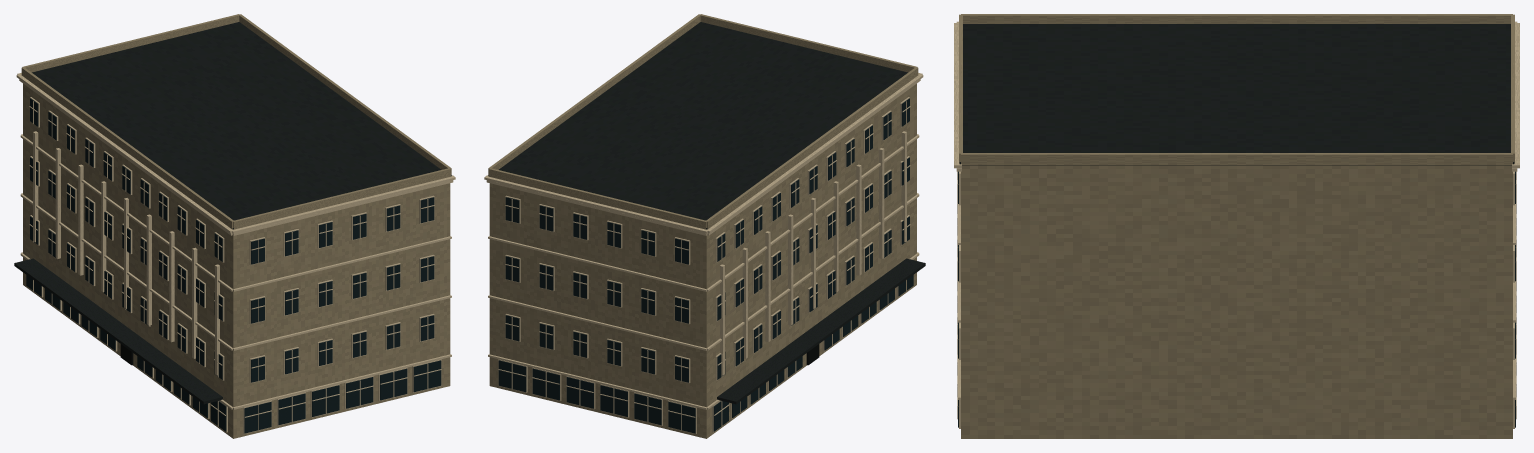
3 views of the same model, side by side, from view 1: azimuth 30°, elevation 25°; view 2: azimuth 150°, elevation 25°; view 3: azimuth 270°, elevation 25° (orthographic). The views are drawn at different scales.
Parts seen in each view (by area): view 1: gerzon-hoogstraat-0, gerzon-hoogstraat-1, gerzon-hoogstraat-2, gerzon-hoogstraat-3; view 2: gerzon-hoogstraat-0, gerzon-hoogstraat-1, gerzon-hoogstraat-2, gerzon-hoogstraat-3; view 3: gerzon-hoogstraat-0, gerzon-hoogstraat-1, gerzon-hoogstraat-2.
Part boxes in pixels (box(x1,y1,x2,y2)): gerzon-hoogstraat-0: box(21, 14, 451, 438); gerzon-hoogstraat-1: box(14, 22, 451, 404); gerzon-hoogstraat-2: box(16, 73, 455, 433); gerzon-hoogstraat-3: box(26, 98, 441, 433); gerzon-hoogstraat-0: box(488, 14, 918, 438); gerzon-hoogstraat-1: box(488, 22, 925, 404); gerzon-hoogstraat-2: box(484, 73, 923, 433); gerzon-hoogstraat-3: box(498, 98, 913, 433); gerzon-hoogstraat-0: box(959, 14, 1514, 438); gerzon-hoogstraat-1: box(959, 24, 1514, 165); gerzon-hoogstraat-2: box(954, 21, 1519, 428).
Bounding box in the file's own units: 27.54 × 23.95 × 43.06.
5 materials, 5 textured.
